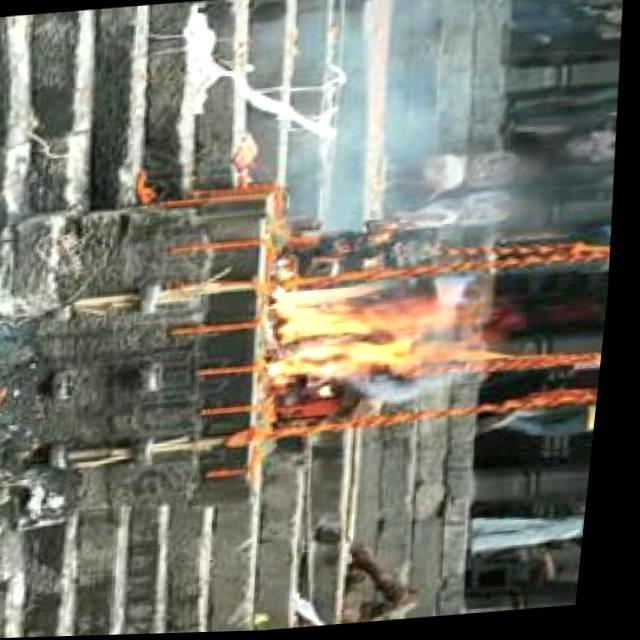fire: (264, 272, 488, 390)
